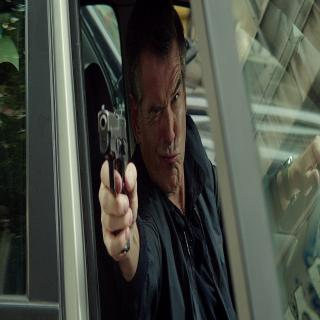gun: (96, 99, 132, 256)
